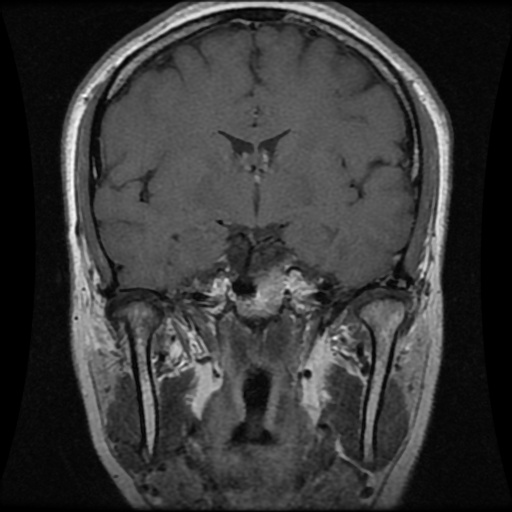pituitary: (200, 251, 321, 320)
